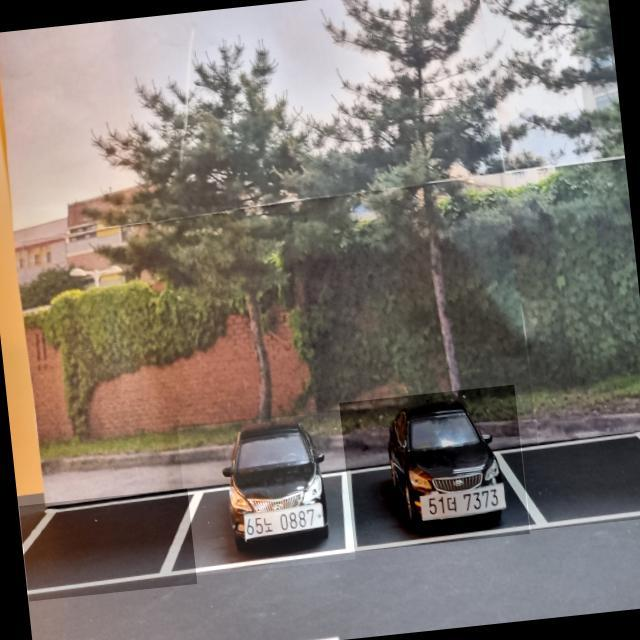empty: (19, 488, 197, 601), (521, 430, 640, 530)
occupied: (339, 384, 530, 552), (177, 410, 355, 576)
